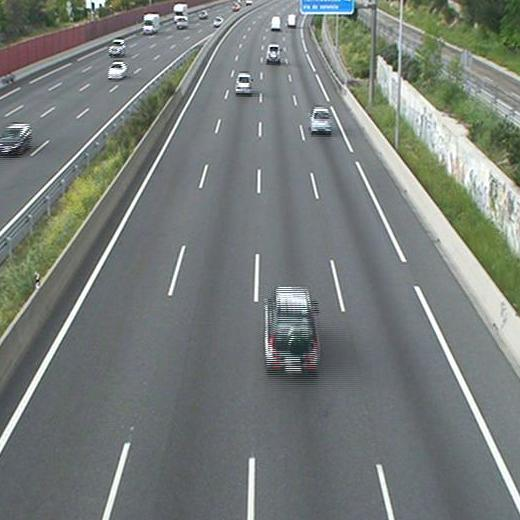car: (263, 287, 320, 373), (310, 105, 332, 135), (235, 71, 253, 96), (266, 44, 280, 63)
